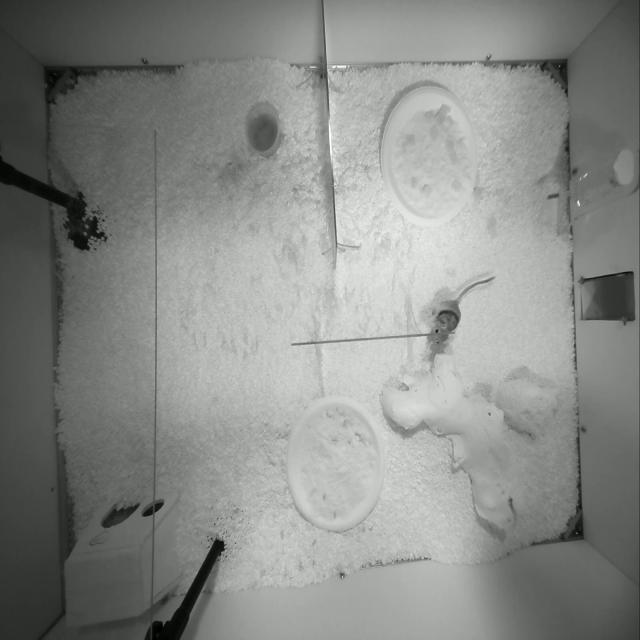adult_front: (429, 276, 494, 348)
